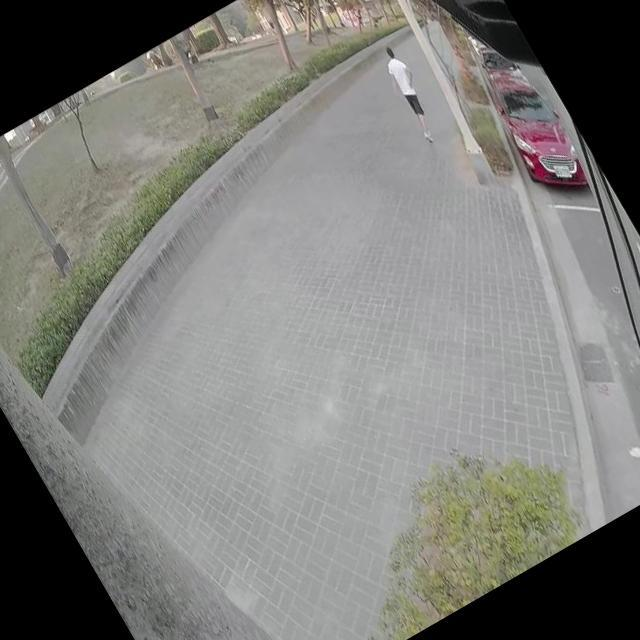person: (374, 42, 446, 145)
